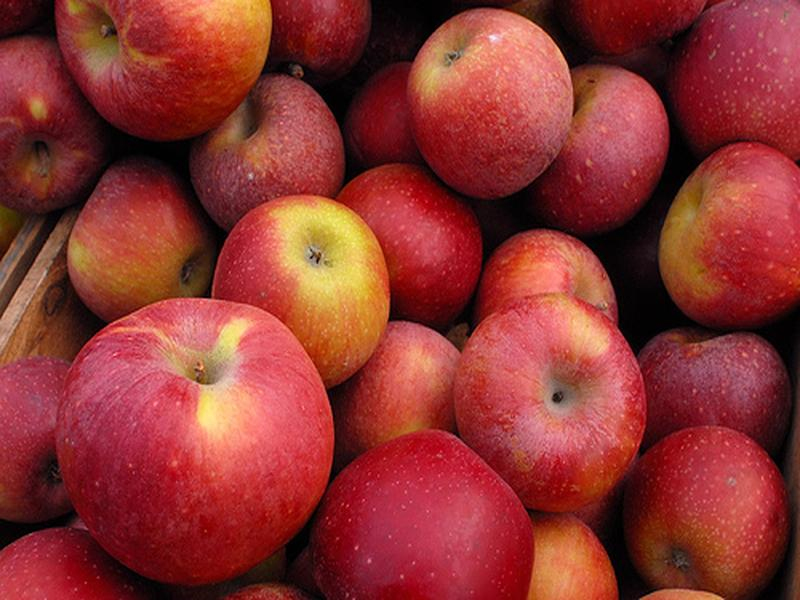apple: (48, 290, 339, 580), (438, 285, 666, 515), (207, 195, 415, 389), (408, 4, 582, 203), (61, 153, 225, 326)
